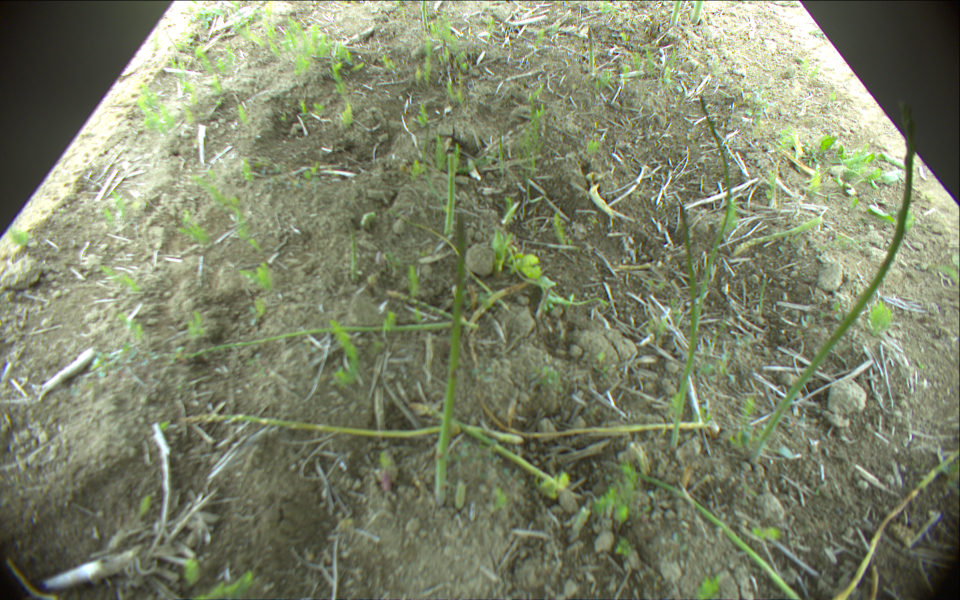aspa: (751, 98, 916, 461), (602, 463, 805, 600), (833, 450, 958, 598), (433, 411, 568, 495), (178, 322, 454, 360), (433, 208, 467, 505), (696, 95, 733, 334), (179, 412, 460, 439), (669, 198, 696, 450), (383, 289, 476, 330), (466, 285, 535, 340), (733, 215, 825, 256), (442, 154, 455, 235), (346, 216, 360, 280), (586, 25, 595, 75), (671, 1, 681, 27), (691, 1, 702, 24), (421, 1, 429, 31)
